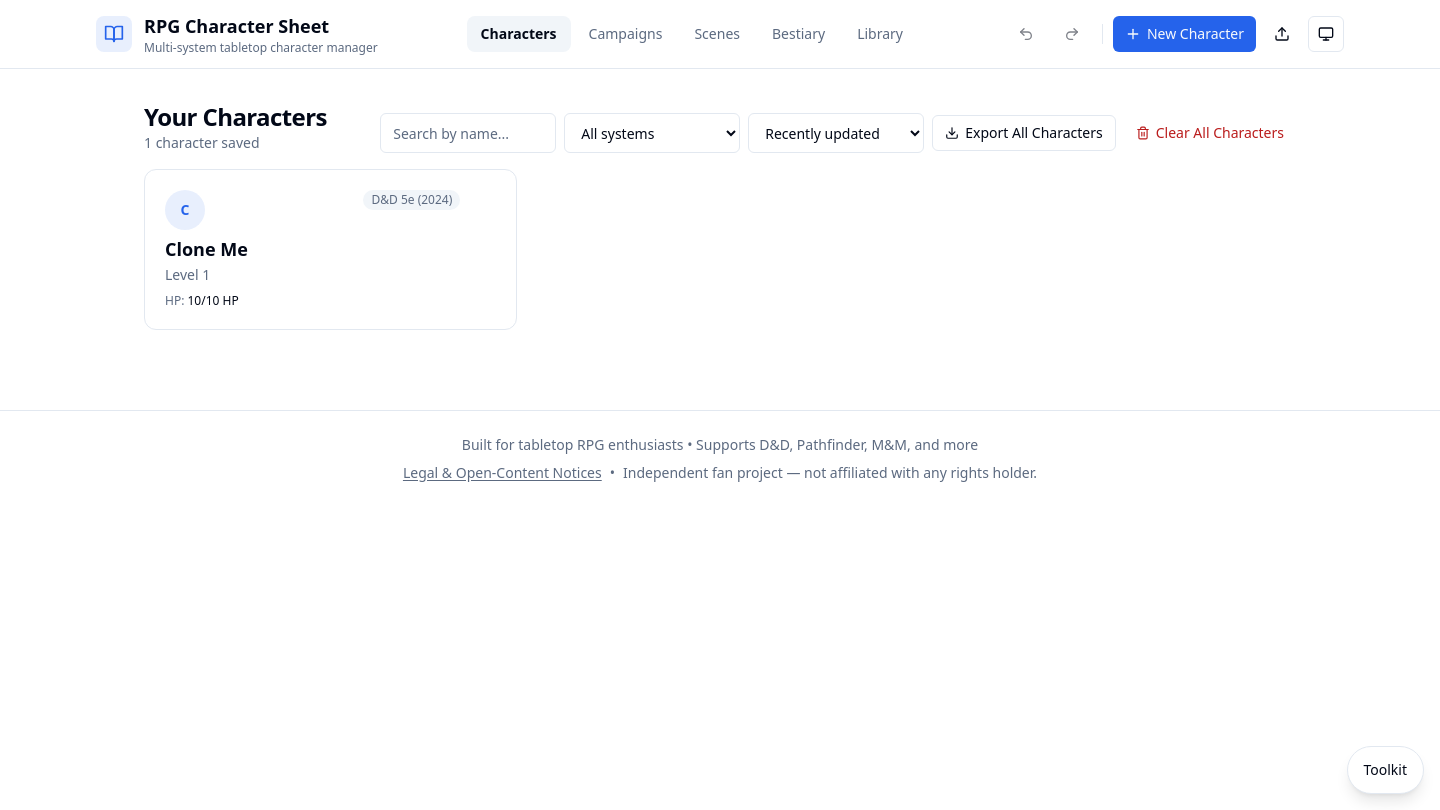
it: Character Management Flow › clones the current character from the header action
Click the button "Clone Me" at [331, 249], box top-left (144, 169), bottom-right (517, 330)
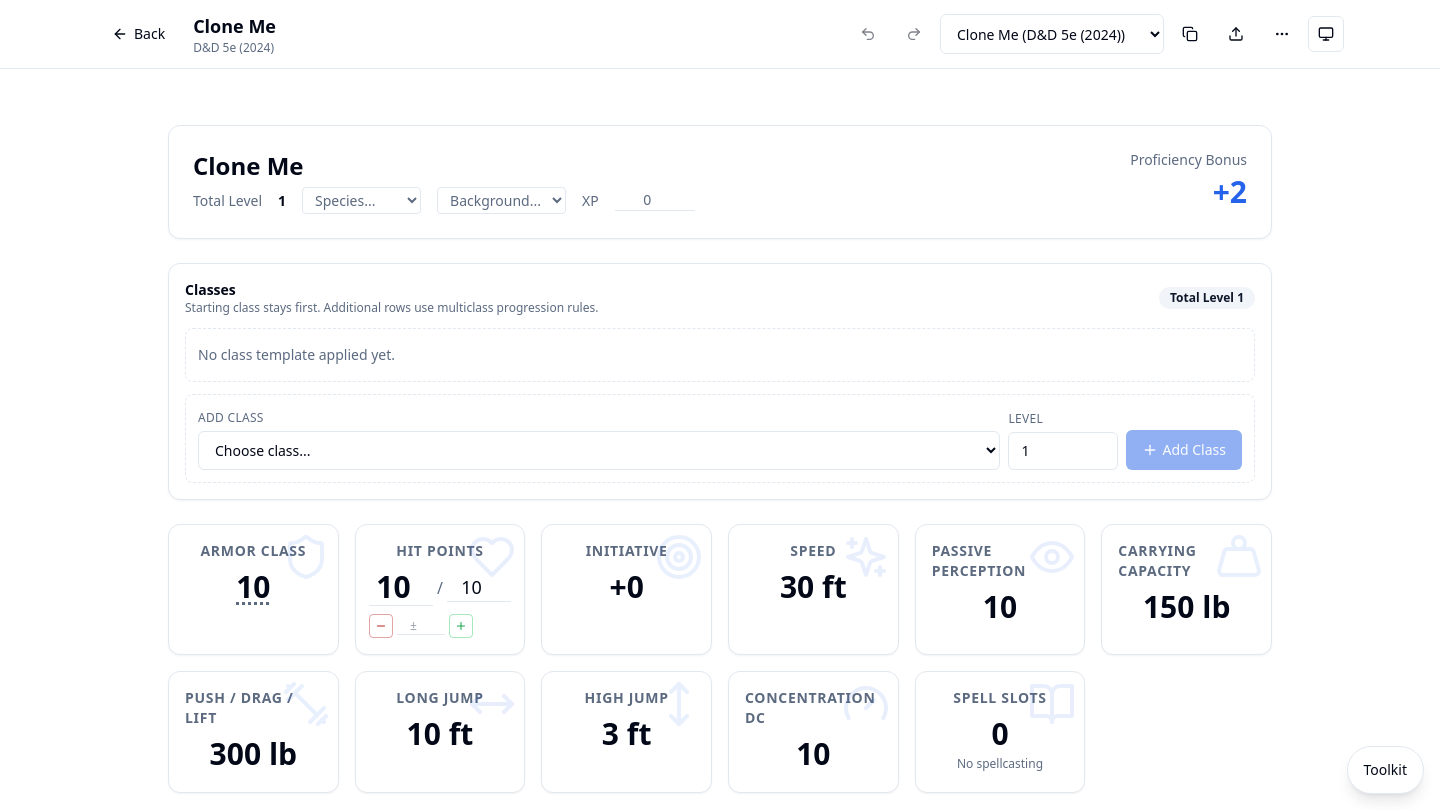
Click the button titled "Clone character" at [1190, 34], box top-left (1170, 14), bottom-right (1210, 54)
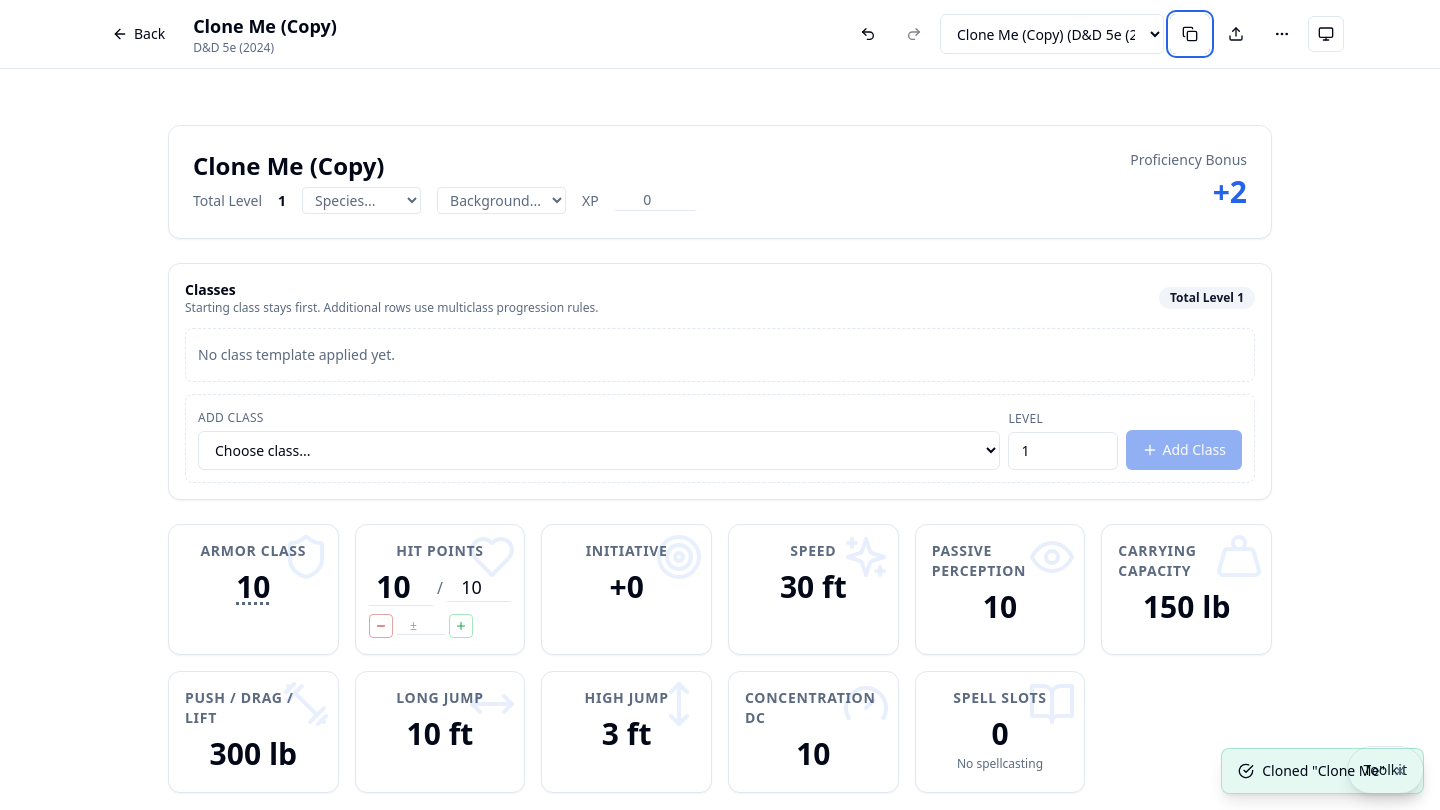
Expected: the field titled "Character name" holds "Clone Me (Copy)", top-left (193, 150), bottom-right (1106, 183)
Click the button "Back" at [139, 34], box top-left (96, 14), bottom-right (181, 54)
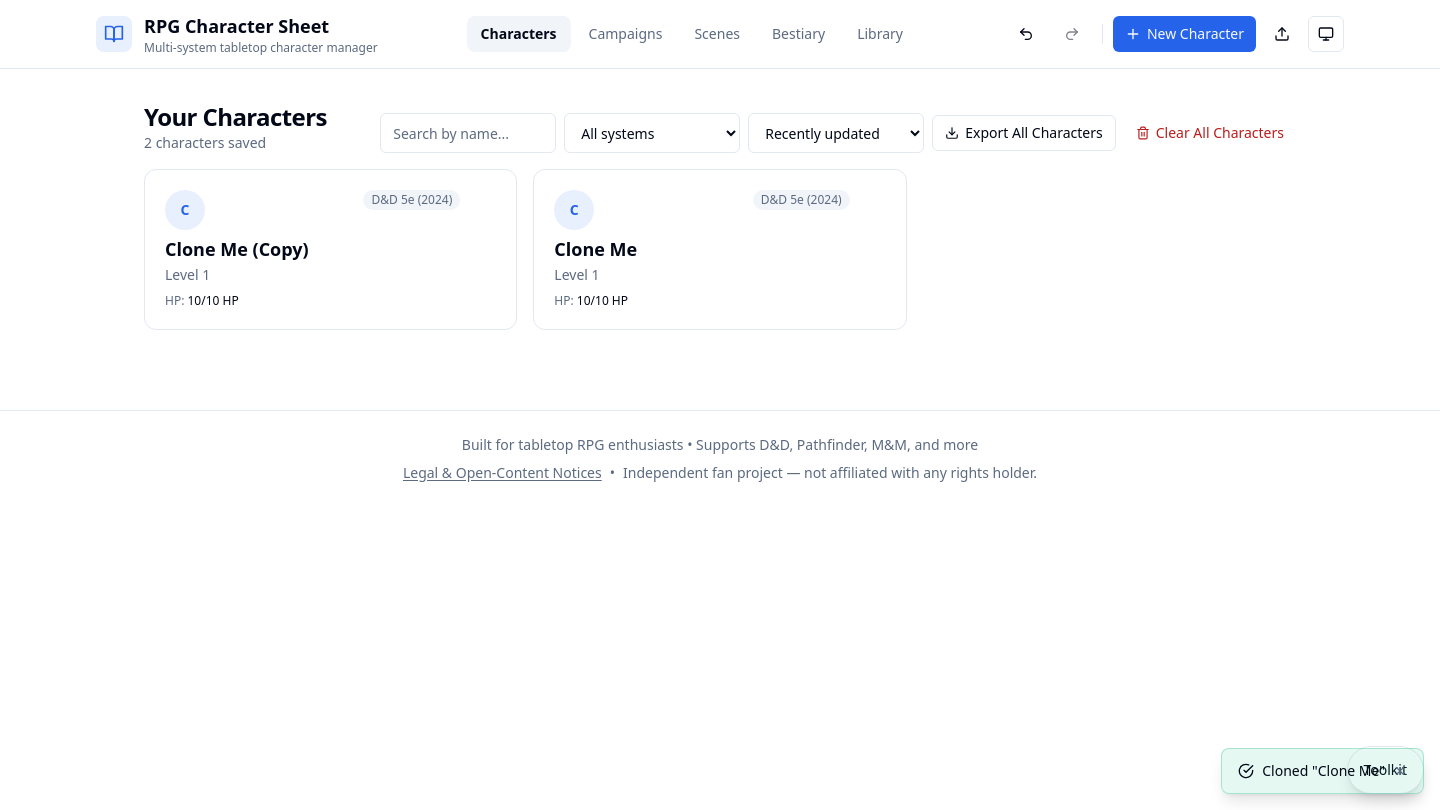
Expected: the heading "Clone Me (Copy)" is shown, top-left (165, 237), bottom-right (309, 261)
Expected: the heading "Your Characters" is shown, top-left (144, 101), bottom-right (327, 133)
